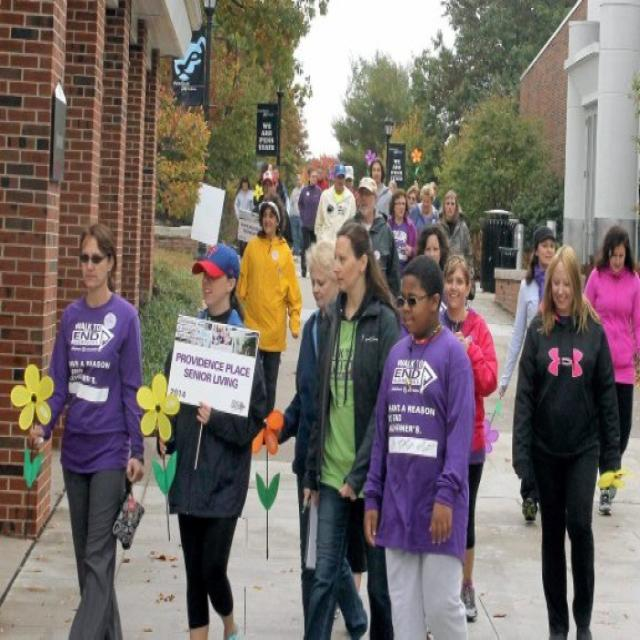body: (24, 219, 142, 639), (154, 235, 274, 639), (508, 236, 624, 639), (359, 252, 479, 639), (296, 211, 403, 639), (258, 231, 342, 640), (436, 251, 501, 623), (494, 222, 558, 526), (580, 221, 640, 516), (232, 187, 304, 416), (336, 174, 404, 303), (436, 187, 476, 299), (313, 161, 357, 247), (250, 169, 294, 248), (296, 166, 324, 280), (386, 187, 420, 279), (327, 162, 357, 235), (262, 169, 289, 244), (233, 174, 255, 264), (417, 222, 450, 271), (368, 157, 394, 219), (288, 173, 305, 259), (408, 182, 439, 228), (250, 167, 280, 214), (412, 177, 438, 195), (405, 184, 421, 210), (315, 166, 330, 191), (387, 178, 400, 199), (266, 162, 273, 171)
